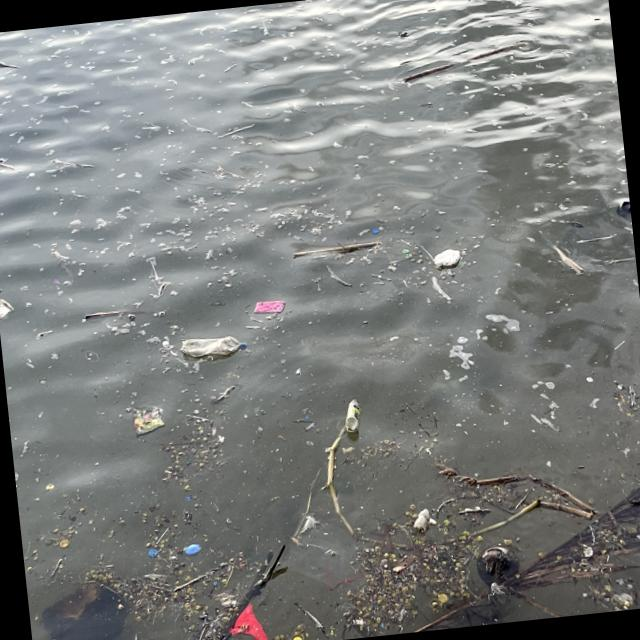foam: (433, 250, 463, 271)
plastic bottle: (181, 333, 249, 360), (344, 398, 363, 432), (413, 509, 433, 533)
